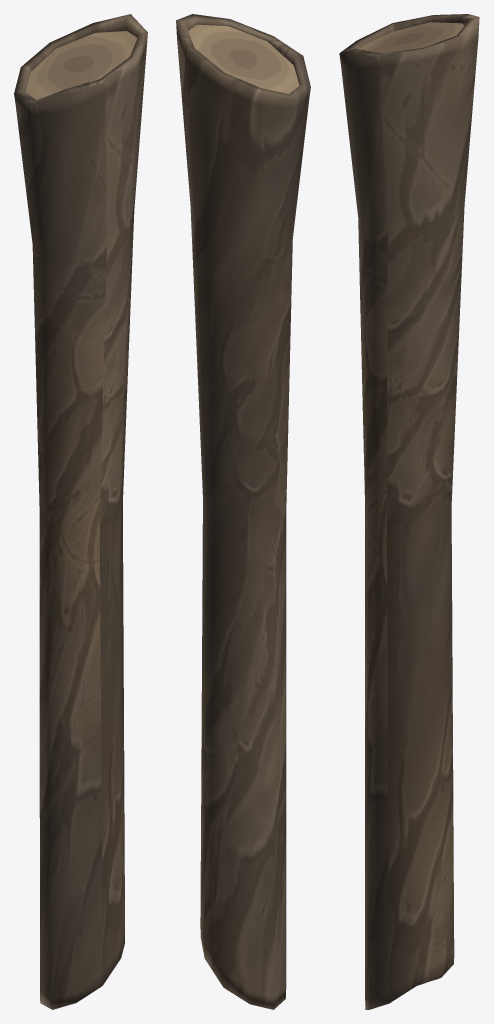
The model's file is stick_normal.fbx.
3 renders of one model, left to right at view 1: azimuth 30°, elevation 25°; view 2: azimuth 150°, elevation 25°; view 3: azimuth 330°, elevation 25°, orthographic. The views are drawn at different scales.
Parts seen in each view (by area): view 1: Cylinder.025; view 2: Cylinder.025; view 3: Cylinder.025.
Part boxes in pixels (x1,y1,x2,y2): Cylinder.025: (14,14,147,1009); Cylinder.025: (176,14,310,1009); Cylinder.025: (339,14,479,1009).
Bounding box in the file's own units: 10 × 78.29 × 8.
